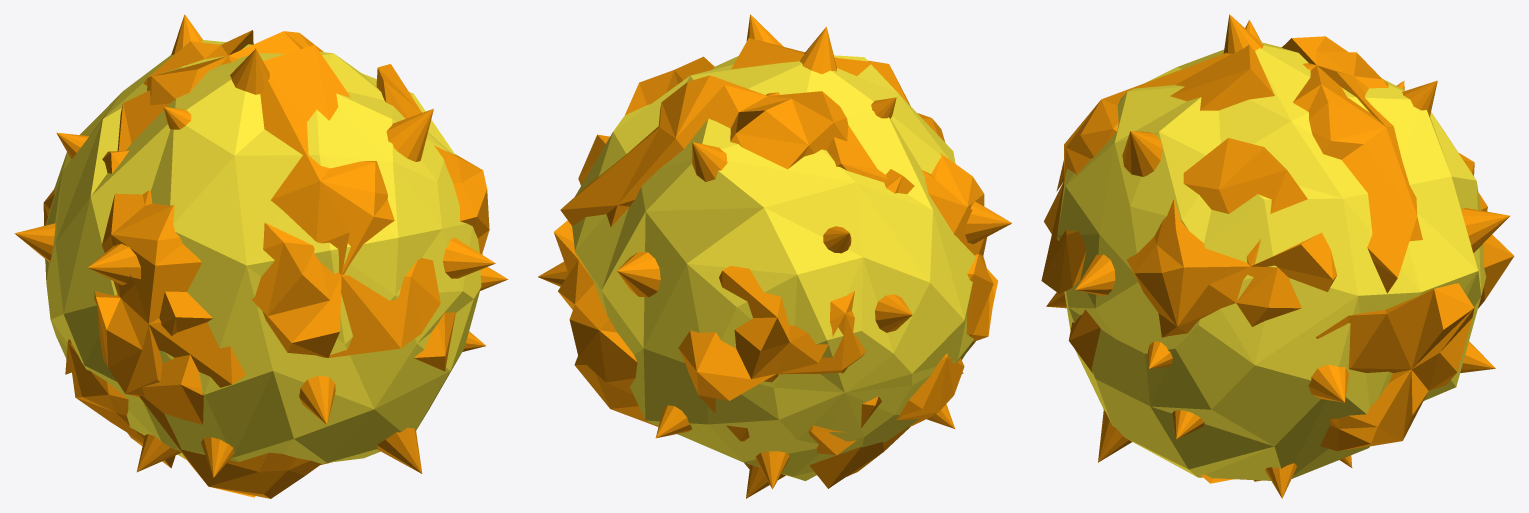
File: Sun.glb
3 views of the same model, side by side, from view 1: azimuth 30°, elevation 25°; view 2: azimuth 150°, elevation 25°; view 3: azimuth 270°, elevation 25° (orthographic). The views are drawn at different scales.
Parts seen in each view (by area): view 1: Node; view 2: Node; view 3: Node.
Boxes of the visible parts, box(x1,y1,x2,y2) form: Node: box(14, 14, 508, 498); Node: box(538, 14, 1011, 498); Node: box(1041, 14, 1514, 498).
Bounding box in the file's own units: 2.19 × 2.23 × 2.15.
